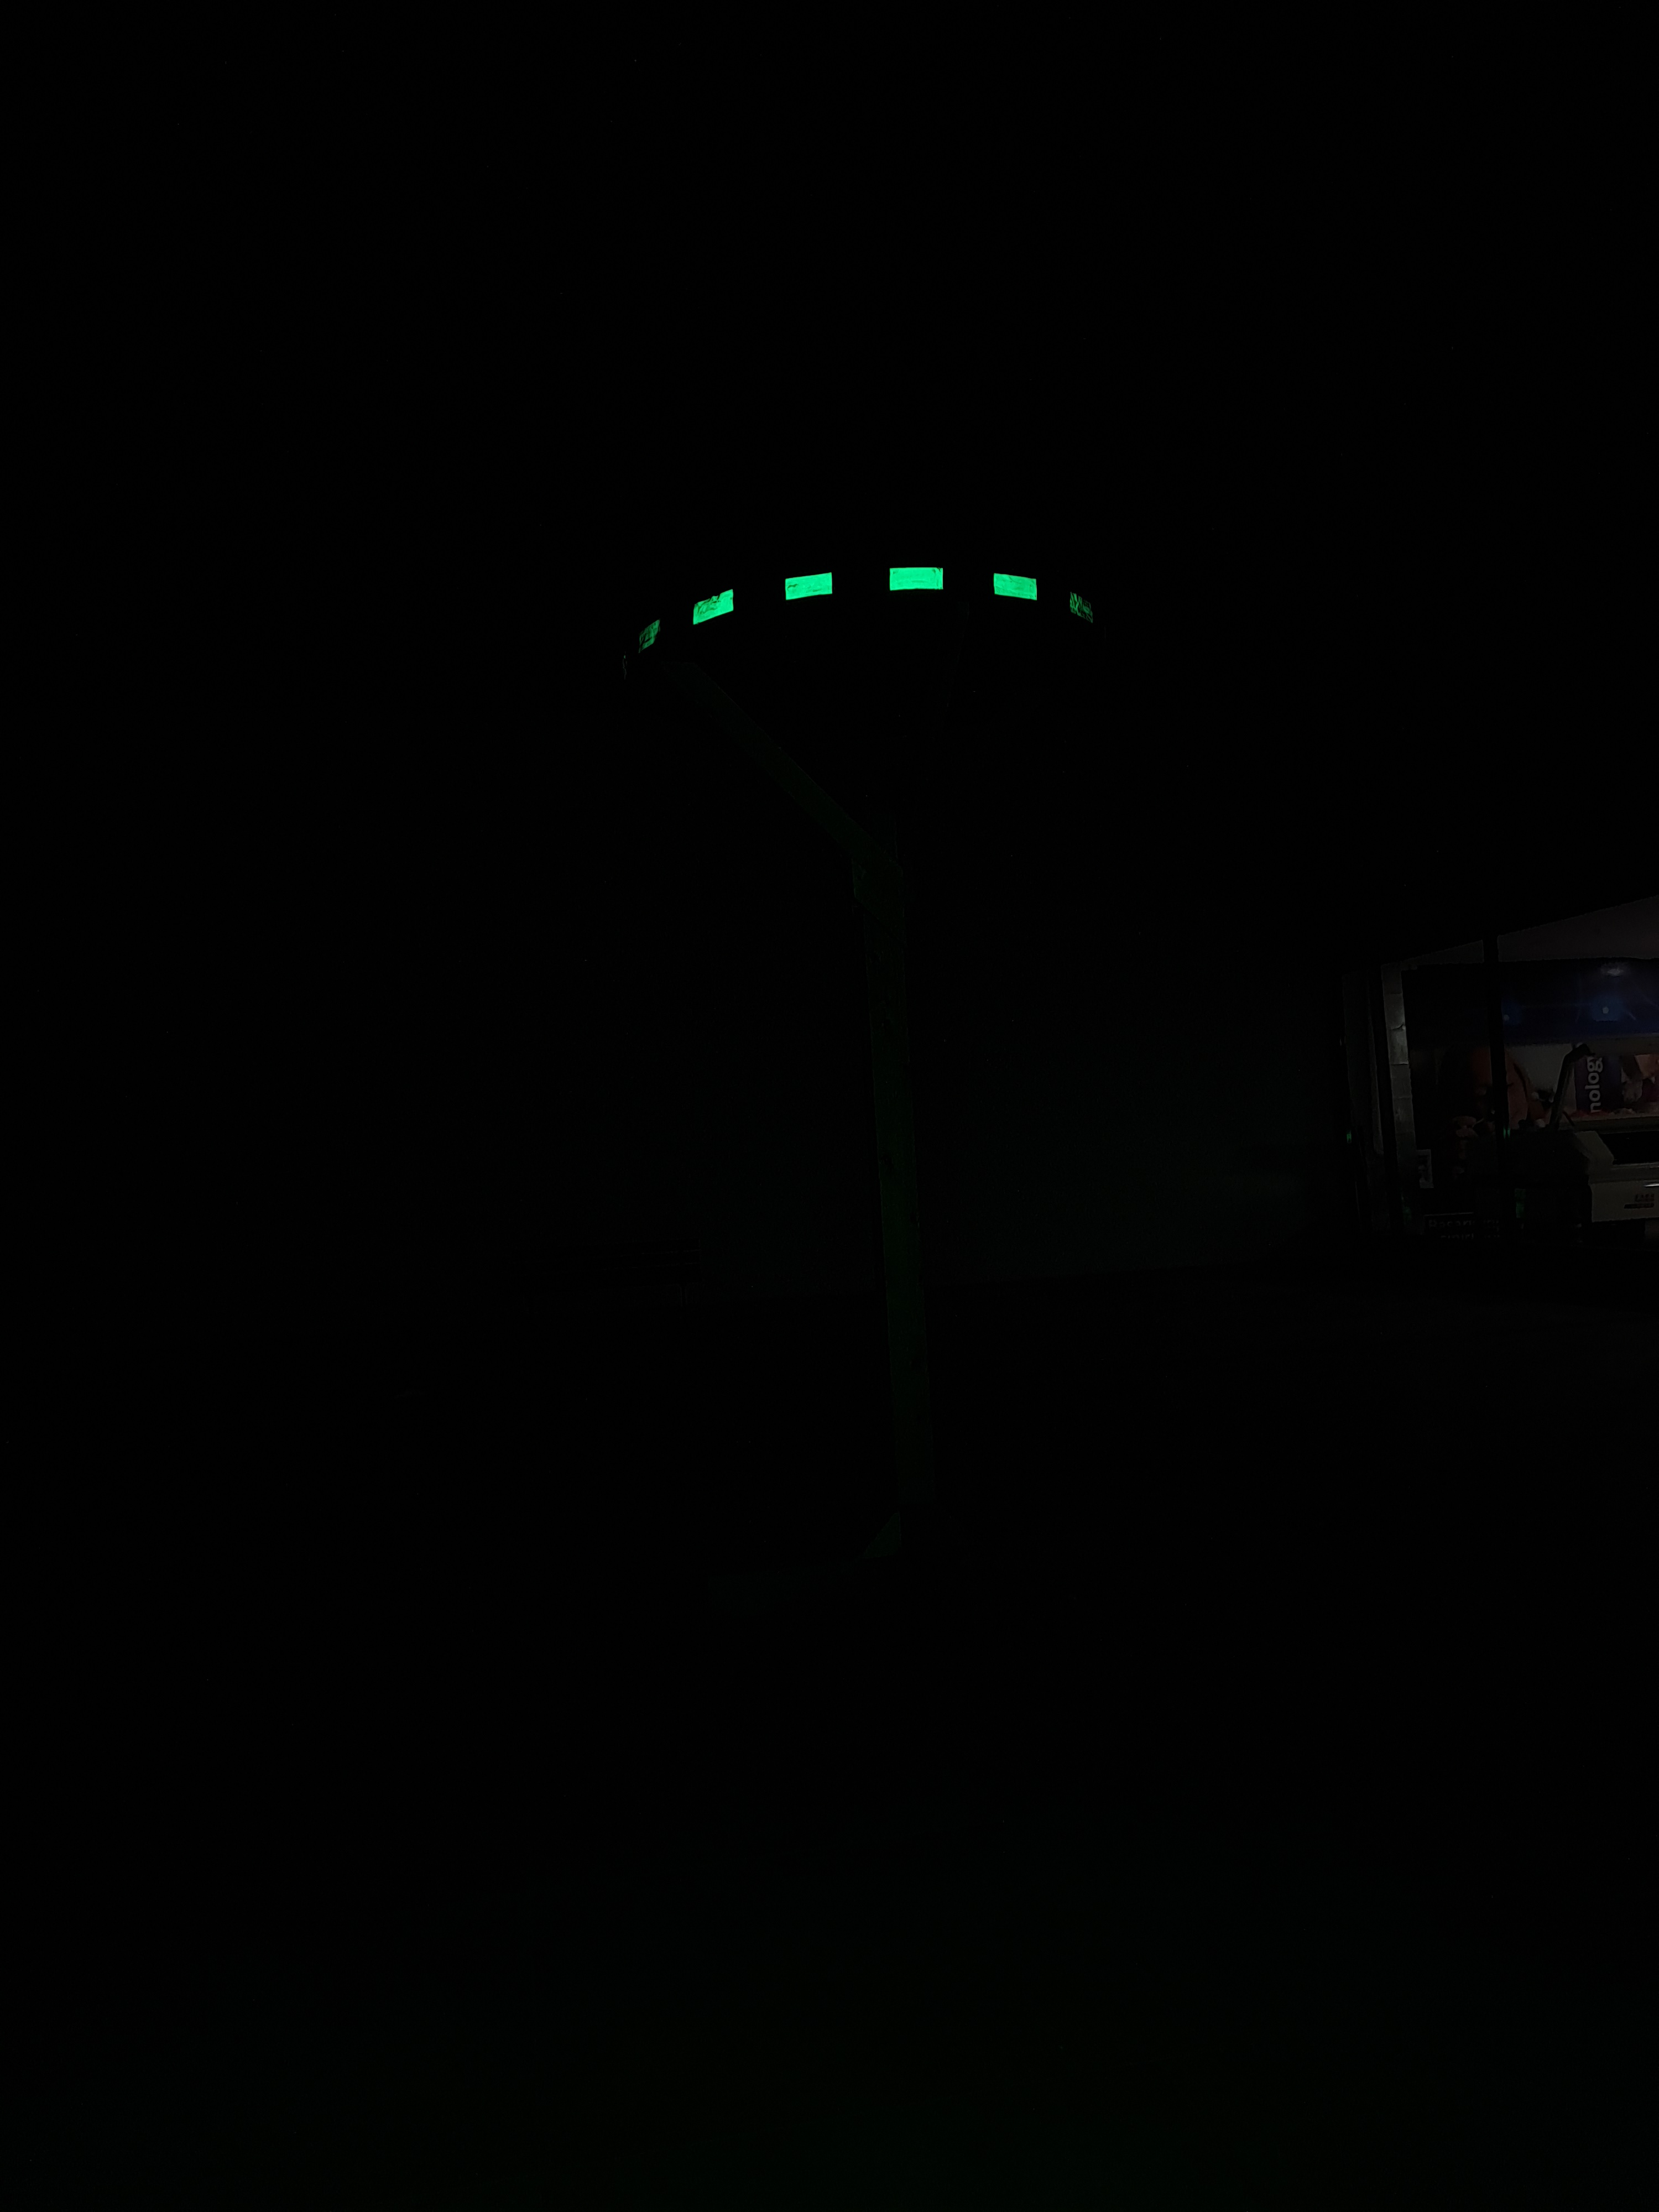hoop: (596, 550, 1122, 695)
